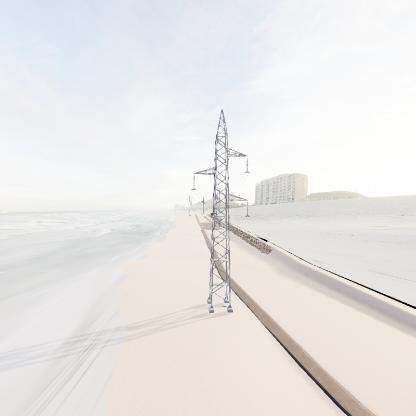tower: (187, 106, 254, 316)
